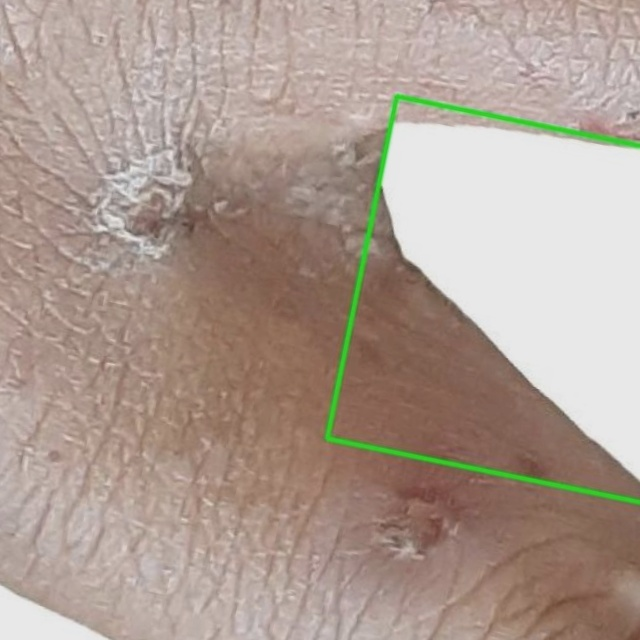Scabies: (327, 96, 639, 502)
